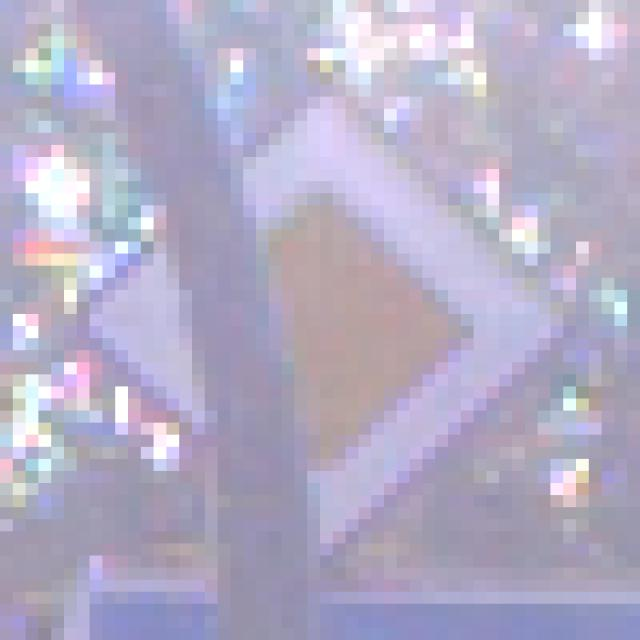Main Road: (78, 74, 577, 581)
